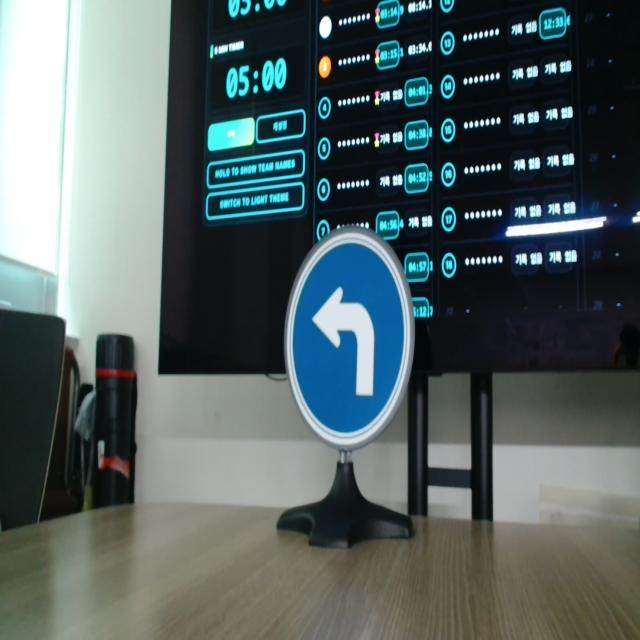left_direction: (281, 205, 430, 463)
